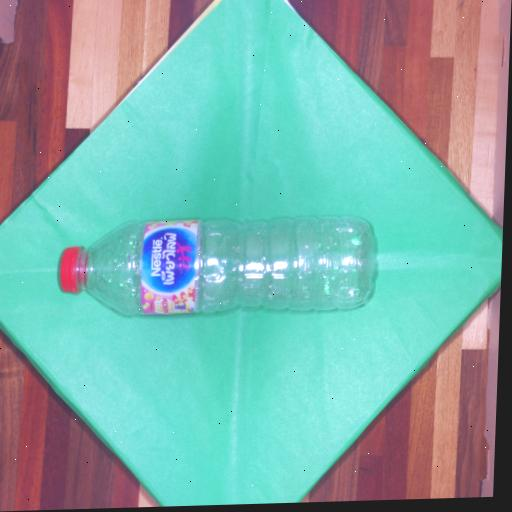bottle: (57, 213, 377, 319)
